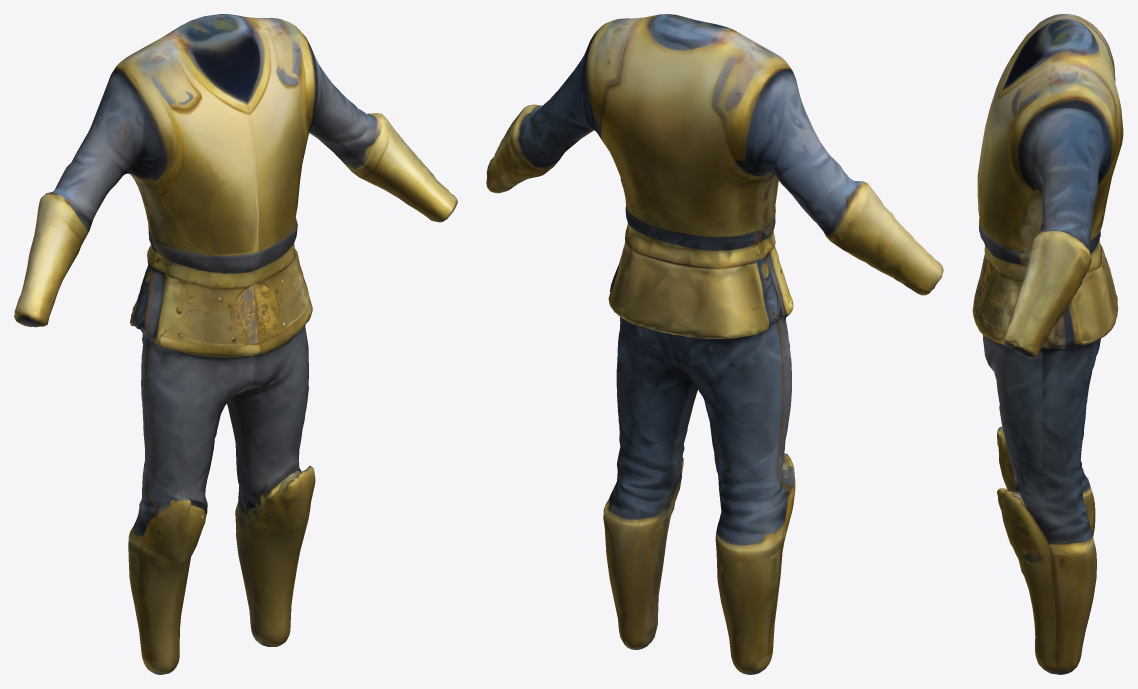
Rendered from royal_armor_set_gold_1027091400_refine.fbx.
The picture shows the model from 3 angles, left to right: view 1: azimuth 30°, elevation 25°; view 2: azimuth 150°, elevation 25°; view 3: azimuth 270°, elevation 25°; orthographic projection. The views are drawn at different scales.
Parts seen in each view (by area): view 1: Mesh_0; view 2: Mesh_0; view 3: Mesh_0.
Boxes of the visible parts, bbox=[...] form: Mesh_0: bbox=[14, 14, 457, 674]; Mesh_0: bbox=[486, 14, 943, 674]; Mesh_0: bbox=[972, 14, 1123, 674].
Size of the model in its own units: 87.81 by 120 by 26.61.
Materials: 1 (1 with a texture image).
